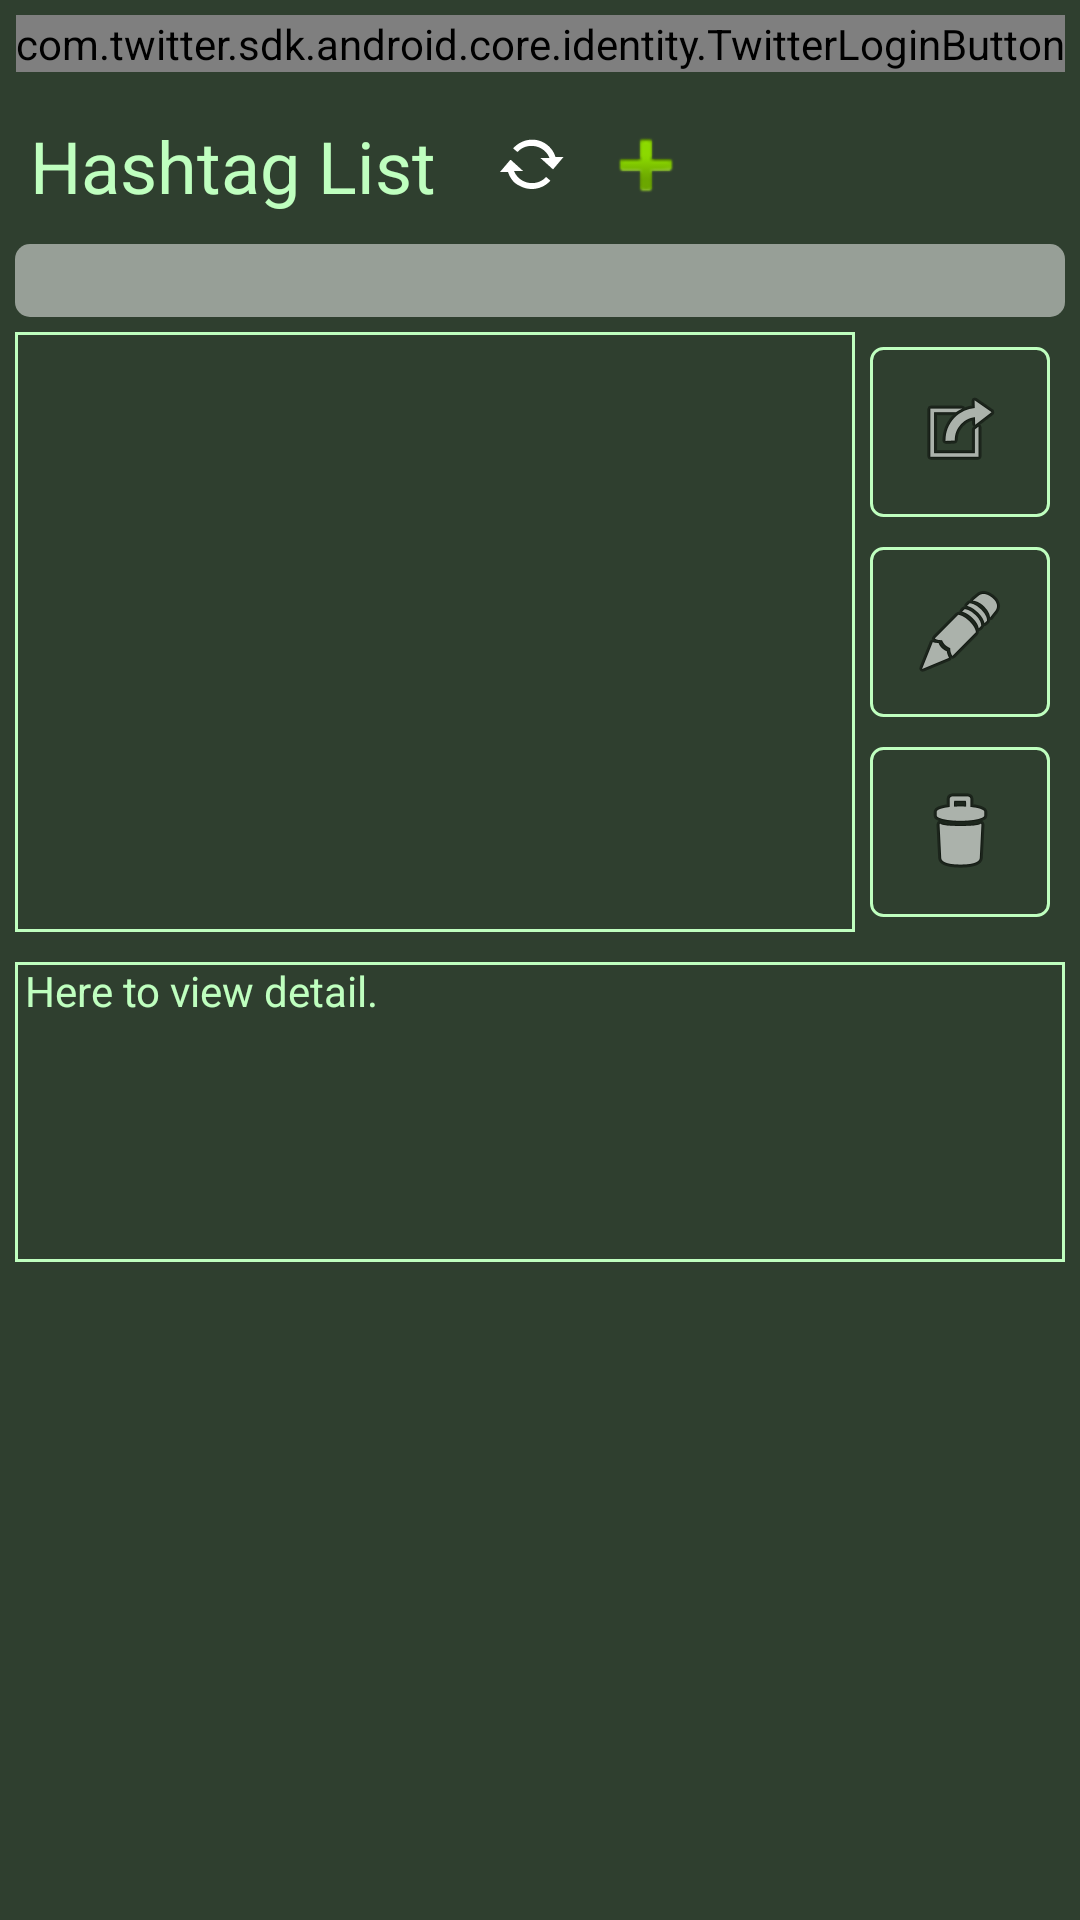

Where icons sit on this 1080 x 1920 app screen, as (x1, y1, x2, y2):
add: (619, 139, 673, 192)
delete: (870, 747, 1050, 917)
edit: (870, 547, 1050, 717)
set as: (870, 347, 1050, 517)
sync: (500, 139, 564, 189)
